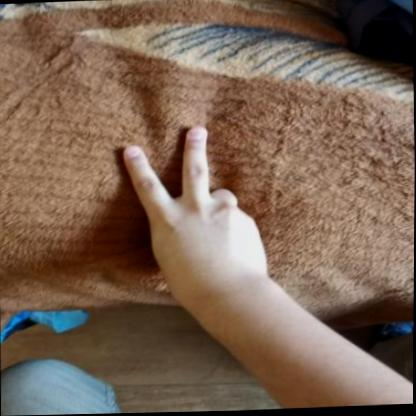V: (115, 114, 274, 318)
